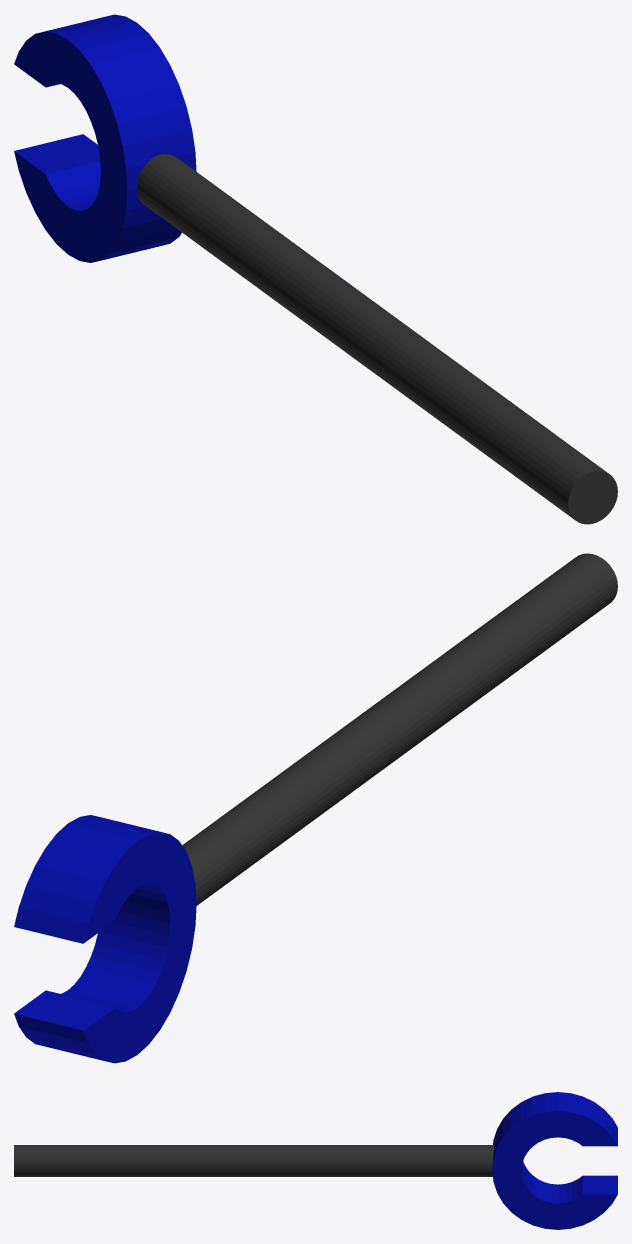
The model's file is käsi.glb.
3 renders of one model, top to bottom at view 1: azimuth 30°, elevation 25°; view 2: azimuth 150°, elevation 25°; view 3: azimuth 270°, elevation 25°, orthographic. The views are drawn at different scales.
Parts seen in each view (by area): view 1: Cylinder; view 2: Cylinder; view 3: Cylinder.
Part boxes in pixels (left/top/right/bottom): Cylinder: left=14, top=14, right=617, bottom=524; Cylinder: left=14, top=553, right=617, bottom=1063; Cylinder: left=14, top=1092, right=617, bottom=1229.
Size of the model in its own units: 0.1723 by 0.5076 by 2.33.
